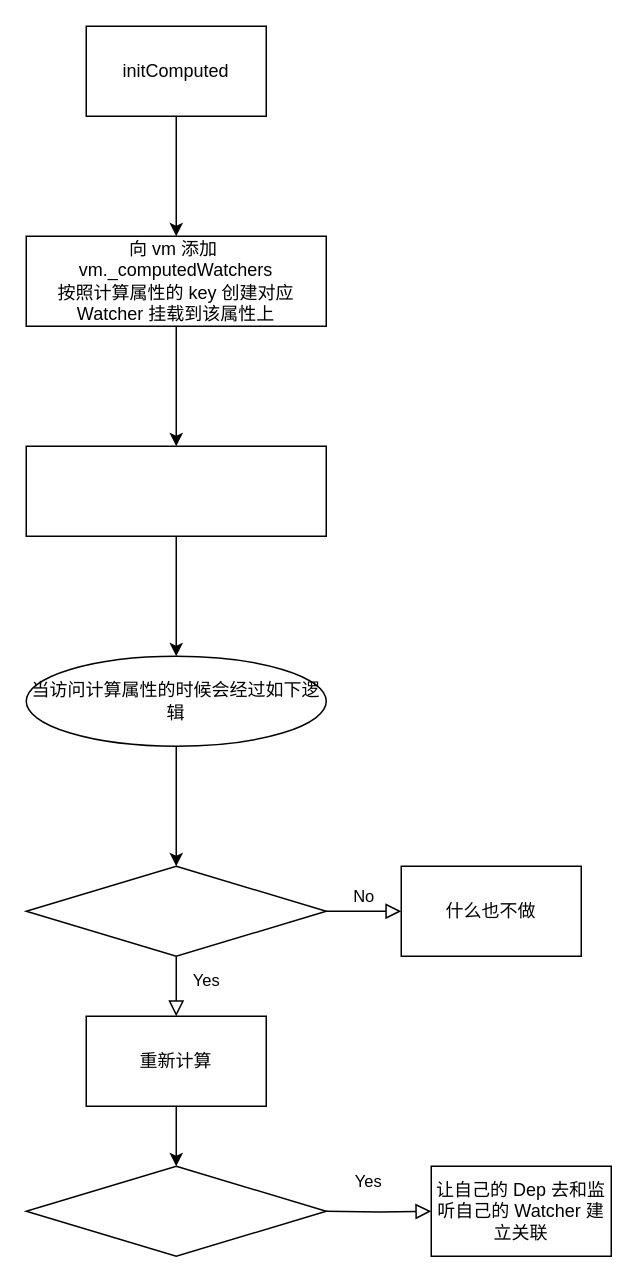
Image size: 638x1283. Some labels were removed from this diagram. The shapes that lost their labels are listed below. From the top down, each one's centre as x and y in pixels, then its label:
(x=175, y=490): 通过 Object.defineProperty 将计算属性的 key 定义到 vm 上
(x=175, y=910): 数据脏检查
(x=175, y=1210): 检查 target 是否存在
